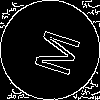M: (25, 25, 81, 79)
